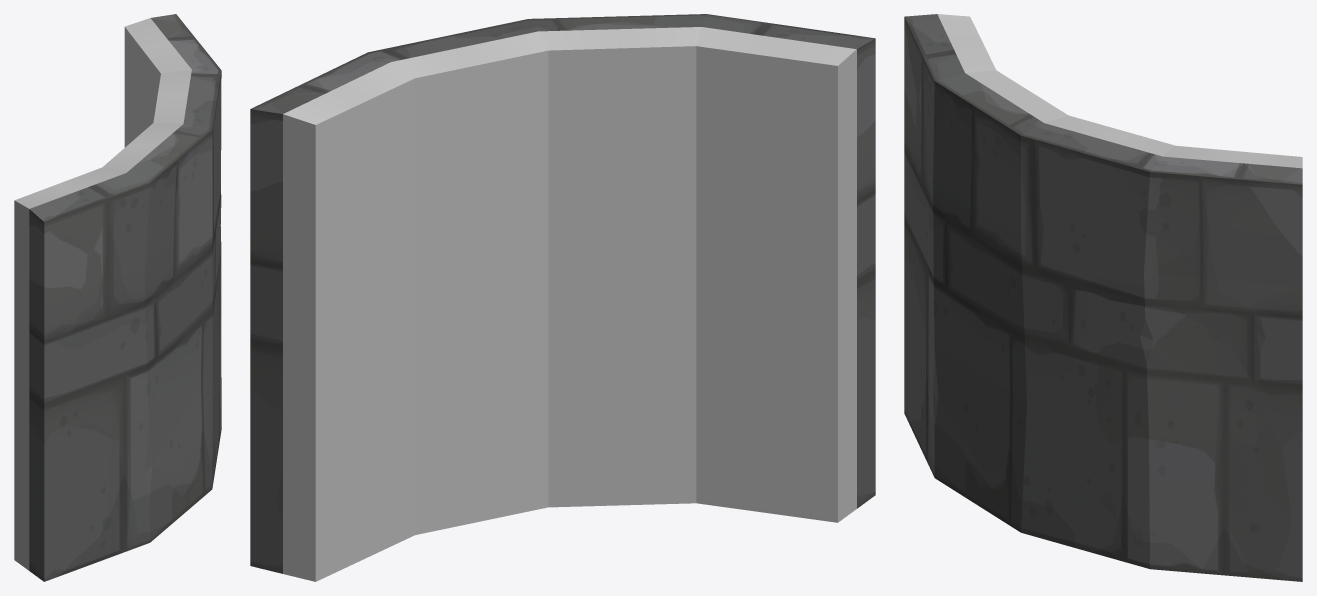
File: SM_Bld_Wall_L_Curve_Half_01.fbx
3 views of the same model, side by side, from view 1: azimuth 30°, elevation 25°; view 2: azimuth 150°, elevation 25°; view 3: azimuth 270°, elevation 25° (orthographic). The views are drawn at different scales.
Visible parts, largest first — view 1: SM_Bld_Wall_L_Curve_Half_01; view 2: SM_Bld_Wall_L_Curve_Half_01; view 3: SM_Bld_Wall_L_Curve_Half_01.
Boxes of the visible parts, x1,y1,x2,y2 form: SM_Bld_Wall_L_Curve_Half_01: [14, 14, 221, 581]; SM_Bld_Wall_L_Curve_Half_01: [250, 14, 875, 581]; SM_Bld_Wall_L_Curve_Half_01: [904, 14, 1302, 581].
Size of the model in its own units: 272 by 302 by 272.
